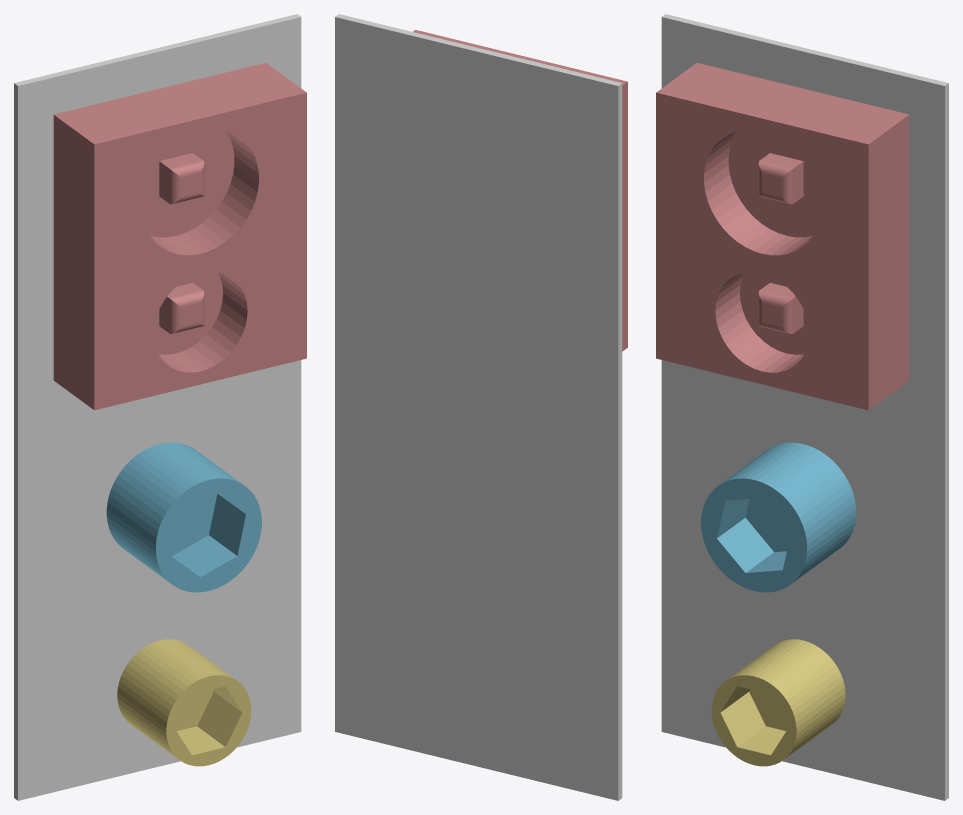
The model's file is pickup_layout.glb.
3 renders of one model, left to right at view 1: azimuth 30°, elevation 25°; view 2: azimuth 150°, elevation 25°; view 3: azimuth 330°, elevation 25°, orthographic.
Parts seen in each view (by area): view 1: world, 0.obj, 2.obj, 1.obj; view 2: world, 0.obj; view 3: world, 0.obj, 2.obj, 1.obj.
Boxes of the visible parts, x1,y1,x2,y2 form: world: [14, 14, 301, 800]; 0.obj: [53, 63, 306, 410]; 2.obj: [106, 442, 261, 592]; 1.obj: [117, 639, 251, 766]; world: [335, 14, 622, 800]; 0.obj: [413, 30, 627, 351]; world: [661, 14, 948, 800]; 0.obj: [656, 63, 909, 410]; 2.obj: [701, 442, 856, 592]; 1.obj: [711, 639, 845, 766].
Size of the model in its own units: 8 by 19.29 by 2.6.
